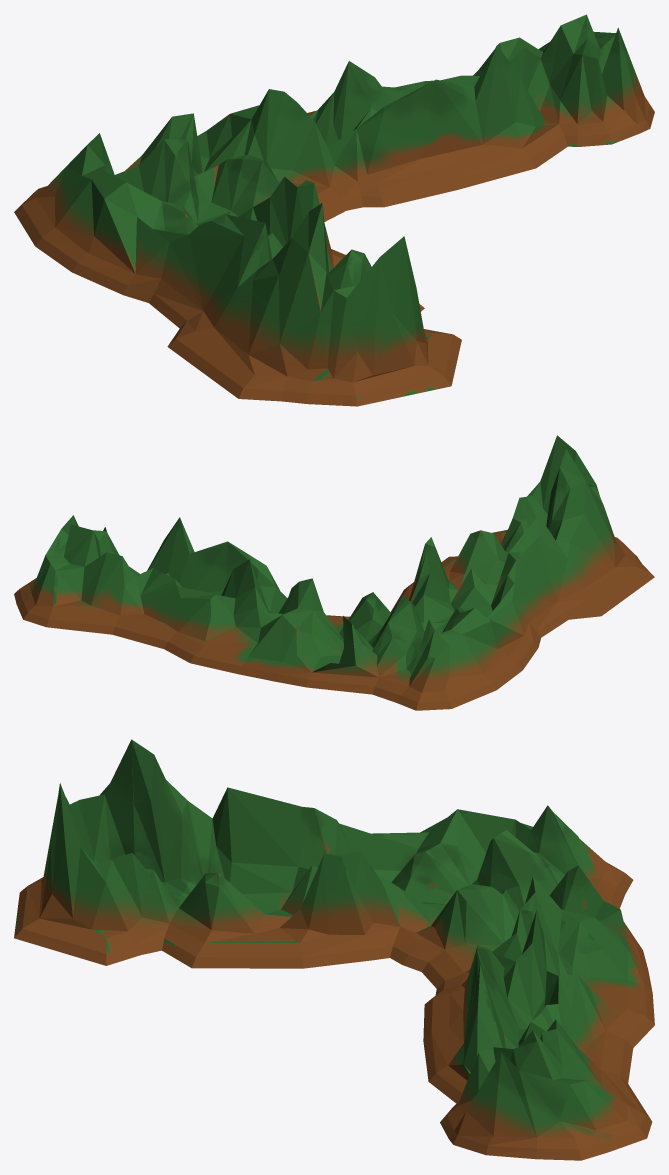
The model's file is Green_mountainnoice.glb.
3 views of the same model, one above another, from view 1: azimuth 30°, elevation 25°; view 2: azimuth 150°, elevation 25°; view 3: azimuth 270°, elevation 25° (orthographic). The views are drawn at different scales.
Parts seen in each view (by area): view 1: huitugou_2194_12.001; view 2: huitugou_2194_12.001; view 3: huitugou_2194_12.001.
Boxes of the visible parts, bbox=[...] form: huitugou_2194_12.001: bbox=[14, 14, 654, 406]; huitugou_2194_12.001: bbox=[14, 435, 654, 710]; huitugou_2194_12.001: bbox=[14, 739, 654, 1160].
Size of the model in its own units: 107 by 26.34 by 93.83.
Materials: 1 (1 with a texture image).
